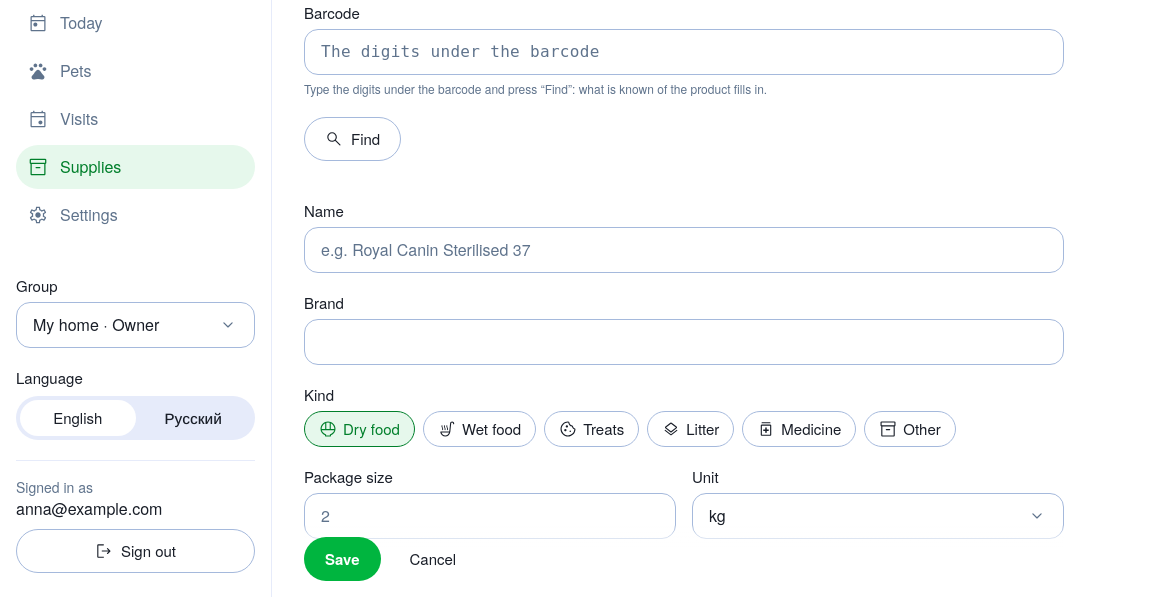
Test: a new item › checks the form before saving
This screenshot has width=1152, height=597.
In the field labelled "Barcode": (684, 52) [304,29,1064,75], type "4600699503410"
(page scrolled)
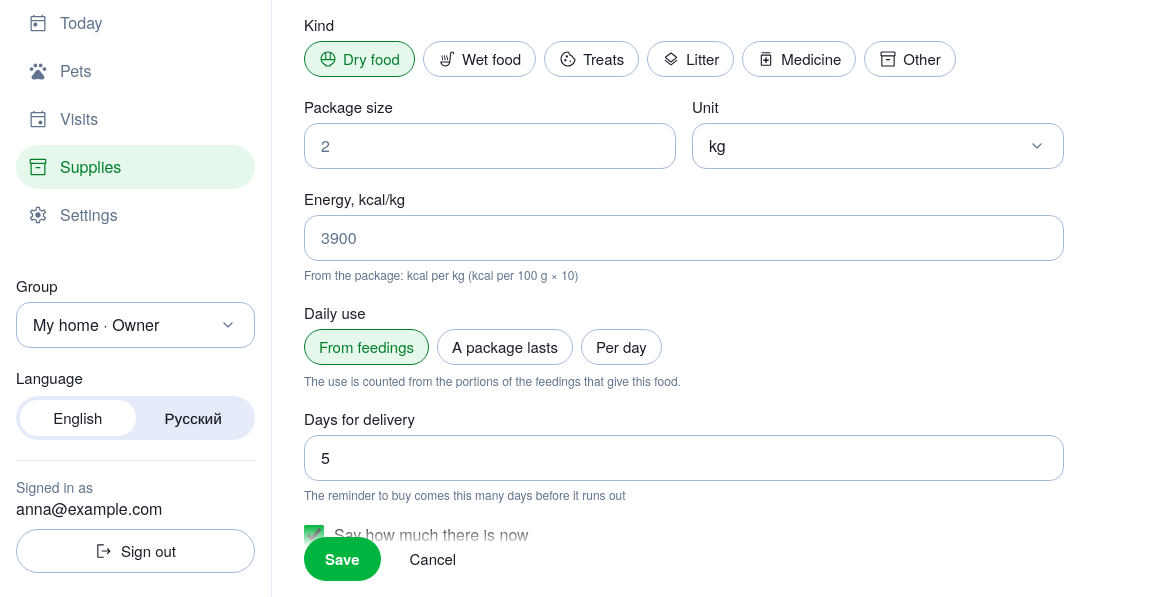
In the field labelled "Energy, kcal/kg": (684, 238) [304,215,1064,261], type "20000"
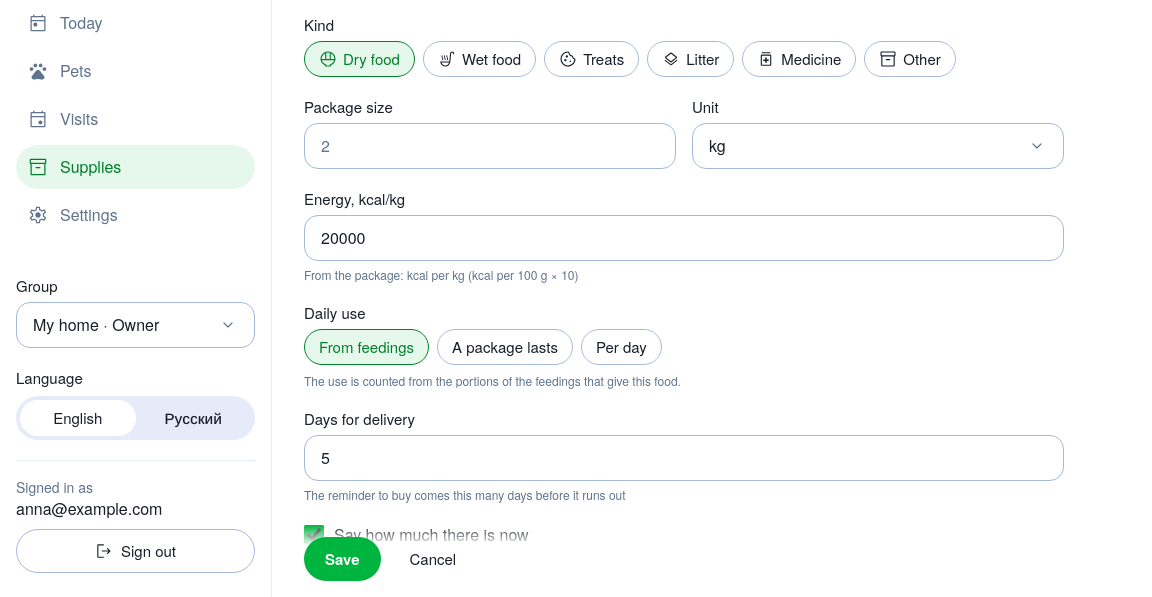
Replace the text in the field labelled "Days for delivery" with "61": (684, 458) [304,435,1064,481]
(page scrolled)
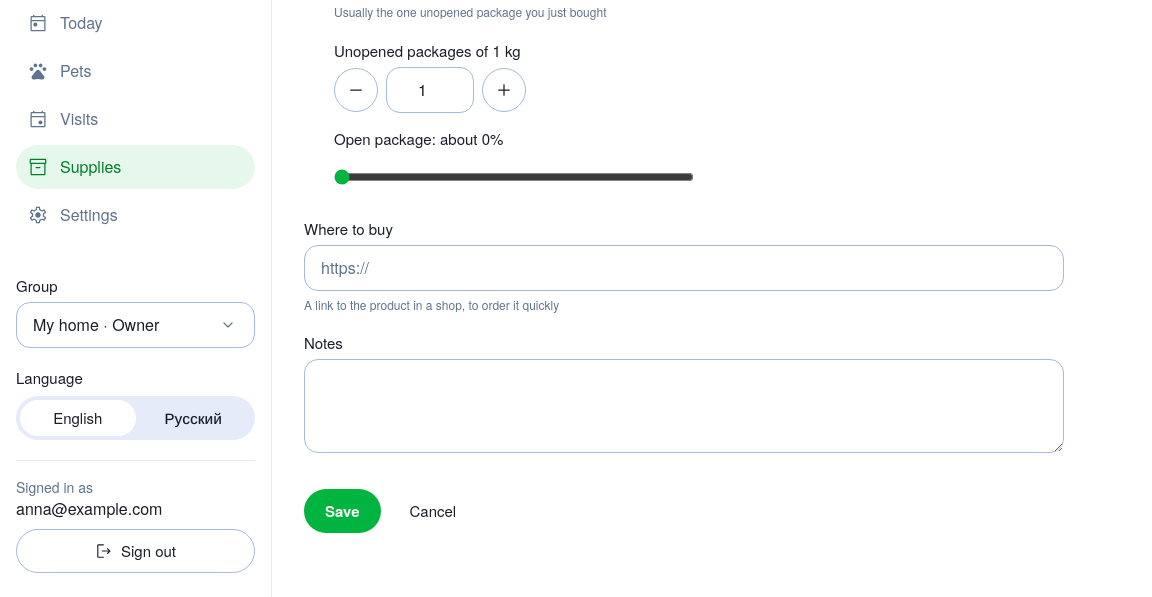
In the field labelled "Where to buy": (684, 268) [304,245,1064,291], type "shop.example/food"
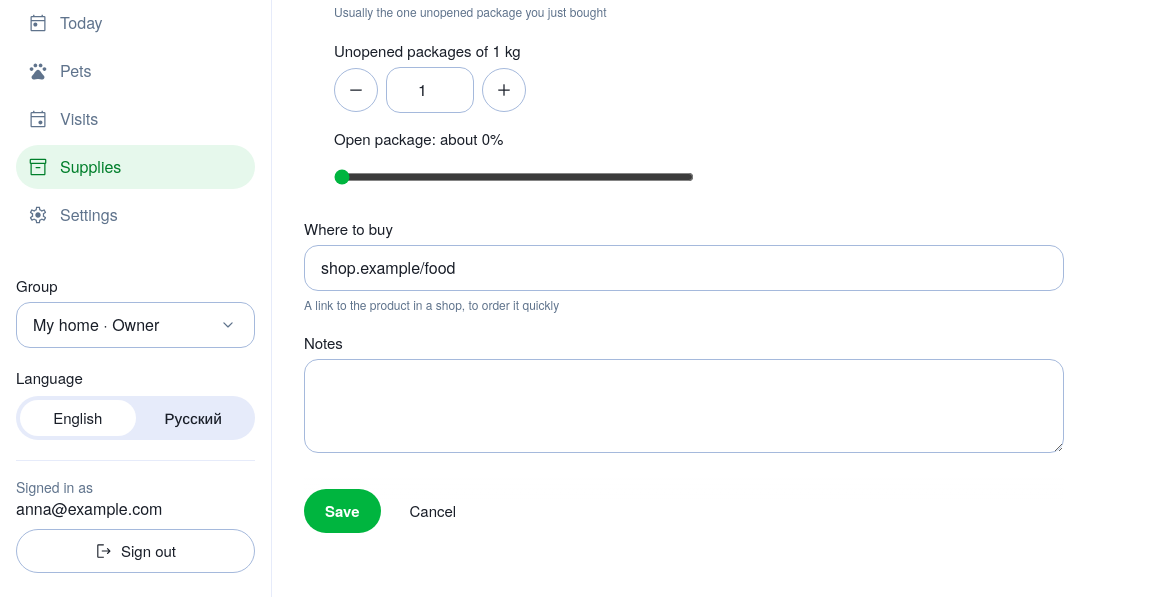
Click the button "Save": (342, 511) [304,489,380,533]
(page scrolled)
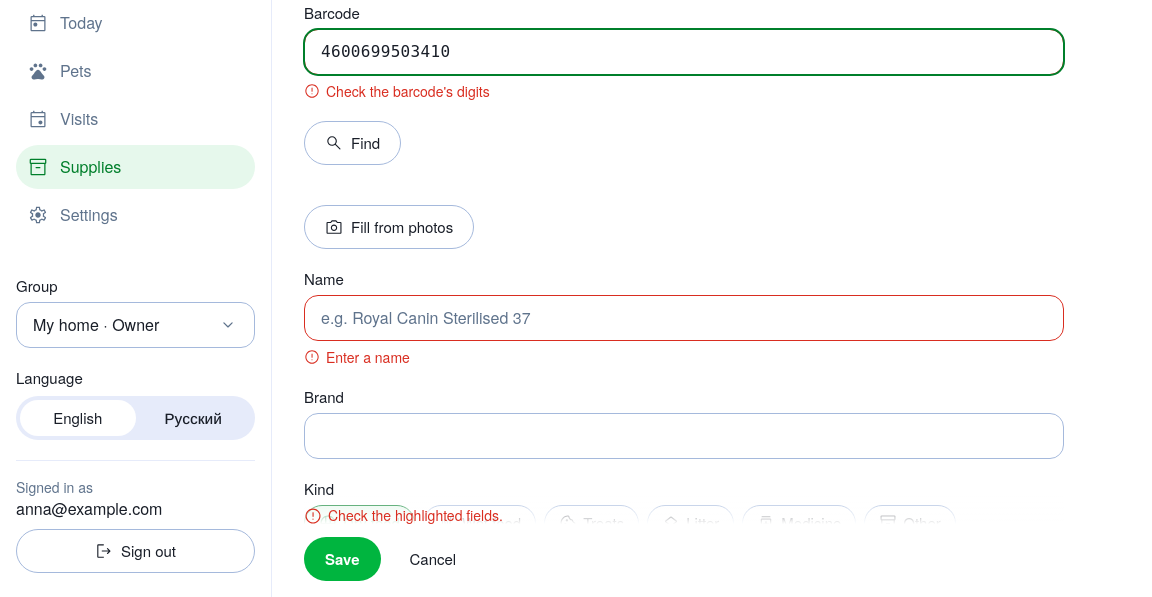
Expected: the text "Check the highlighted fields." is shown, [304,505,503,525]
Expected: the text "Check the barcode's digits" is shown, [304,81,490,101]
Expected: the text "Enter a name" is shown, [304,347,410,367]
